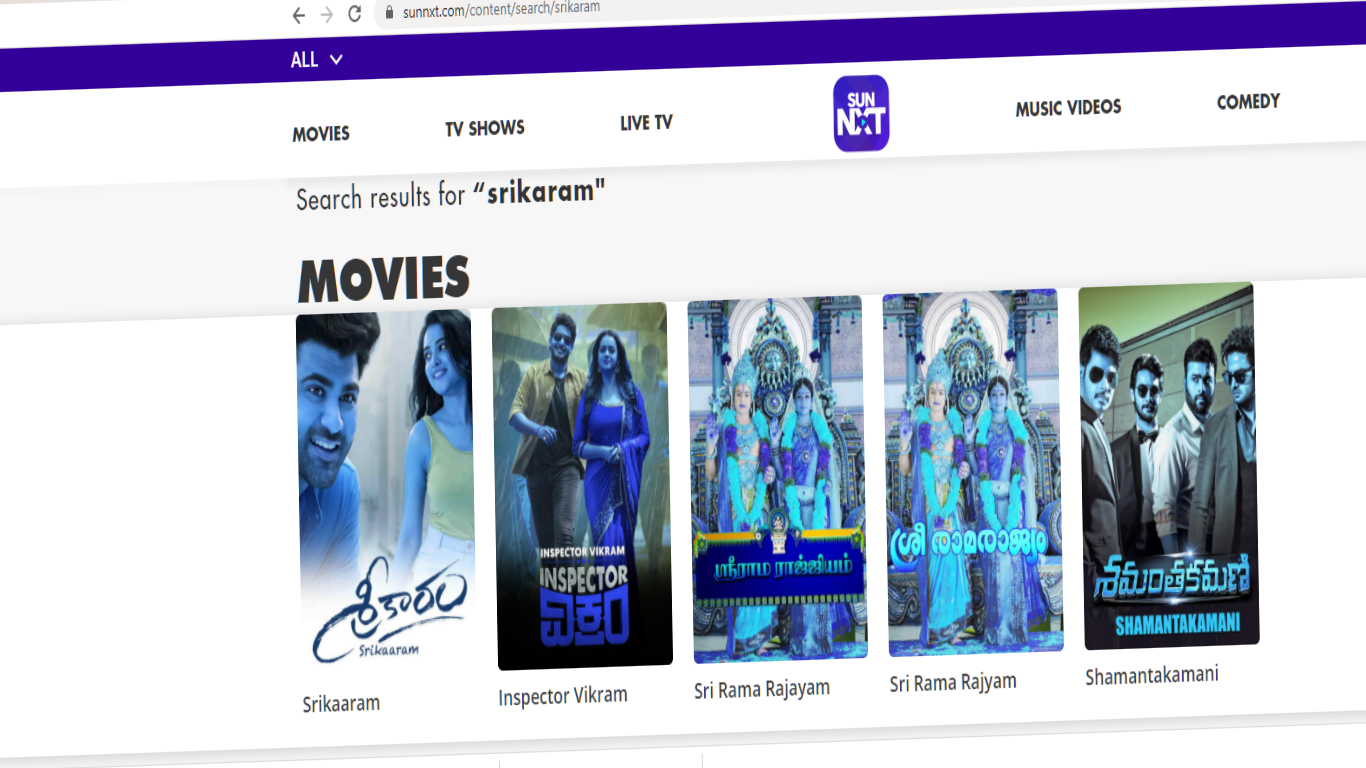resultsfound: (293, 179, 634, 220)
